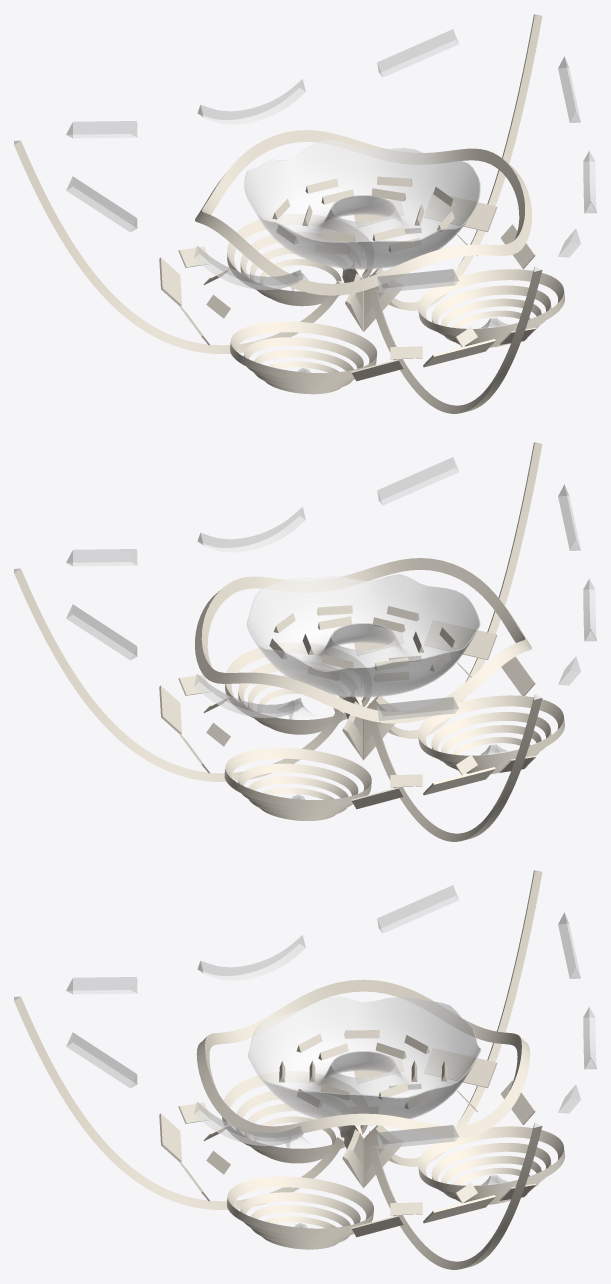
Rendered from RGB.fbx.
The picture shows the model from 3 angles, top to bottom: view 1: azimuth 30°, elevation 25°; view 2: azimuth 150°, elevation 25°; view 3: azimuth 270°, elevation 25°; orthographic projection.
Parts seen in each view (by area): view 1: Circle.004; view 2: Circle.004; view 3: Circle.004.
Part boxes in pixels (x1,y1,x2,y2): Circle.004: (14,14,596,413); Circle.004: (14,442,596,841); Circle.004: (14,870,596,1269).
Bounding box in the file's own units: 213 × 203 × 81.36.
